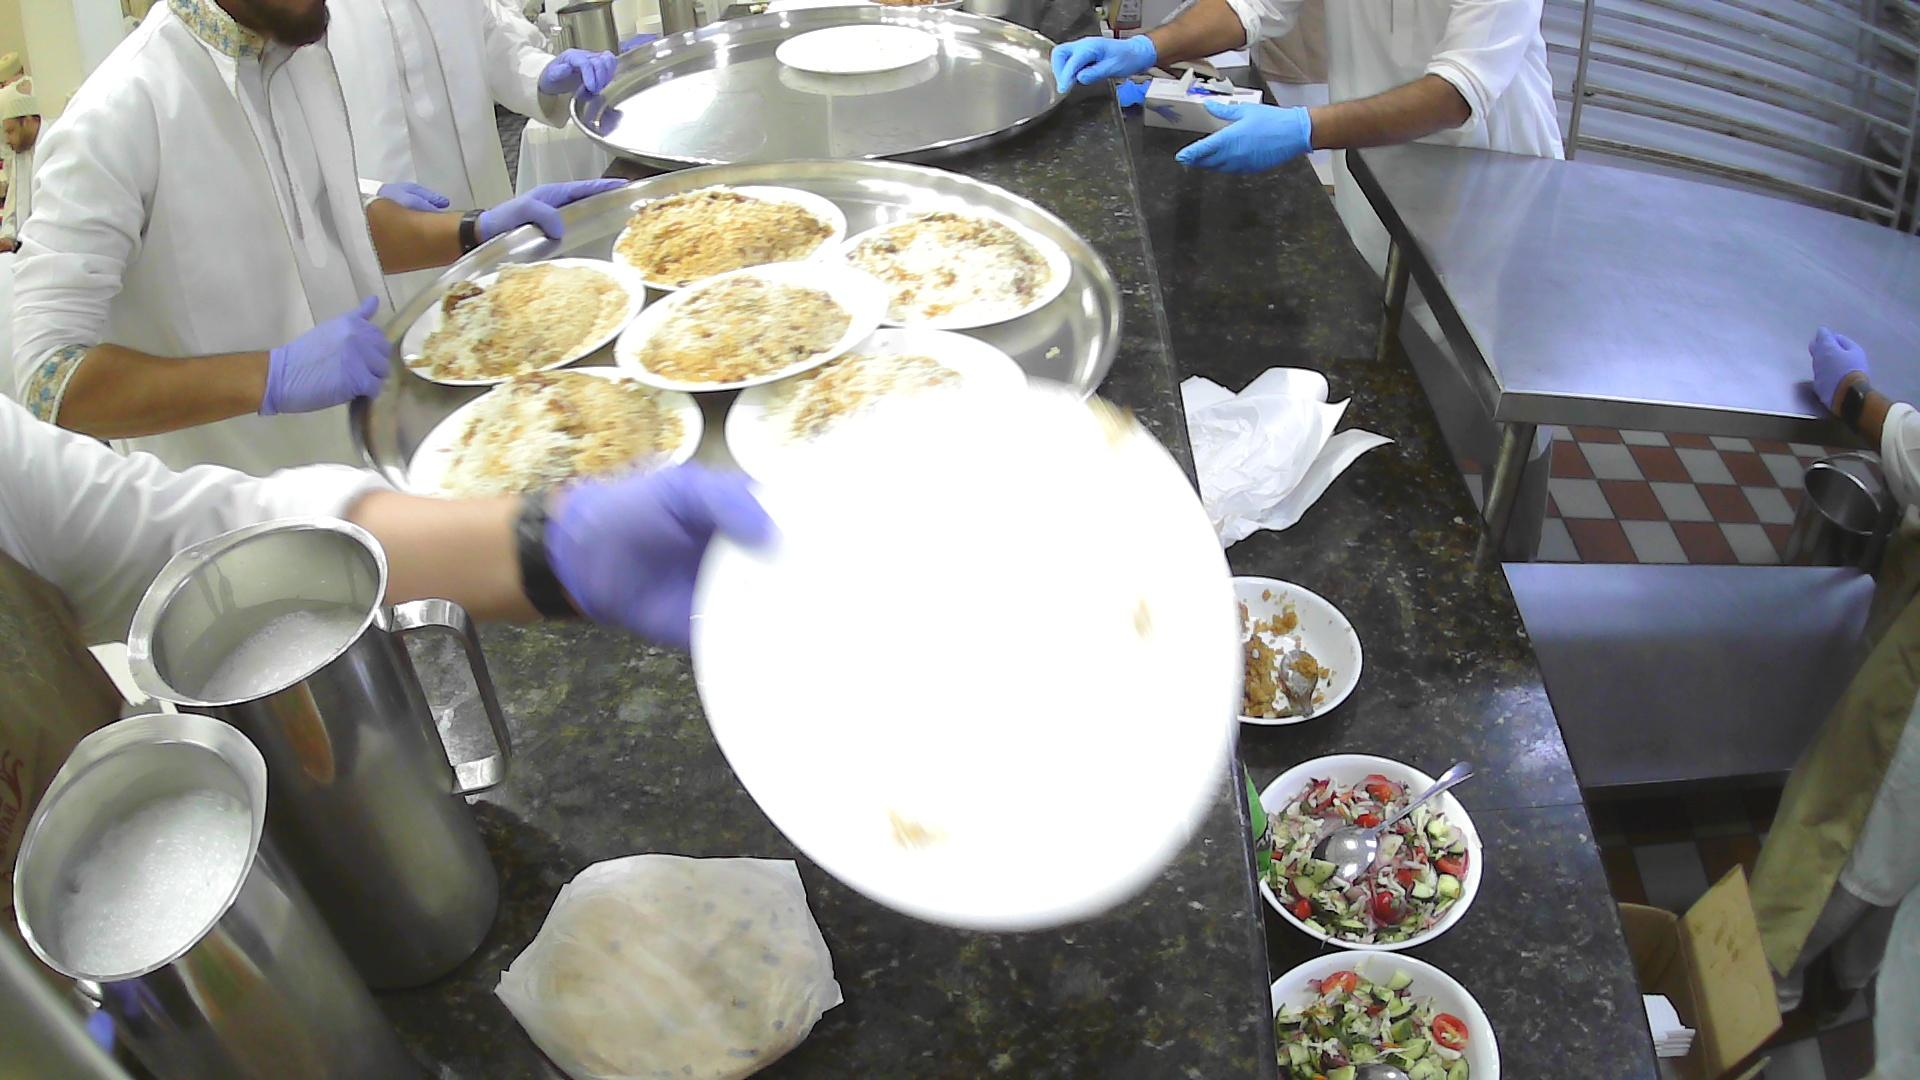thaal: (344, 154, 1125, 501), (566, 3, 1080, 171)
